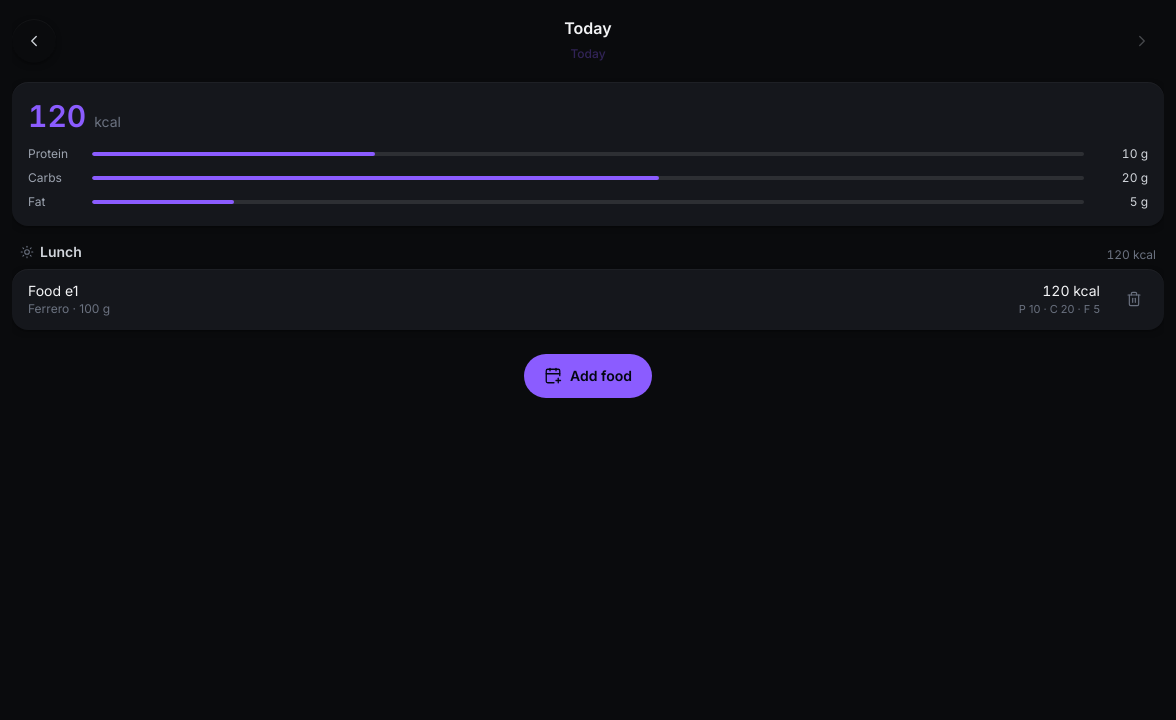
Test: DiaryDay › tapping a row opens the edit sheet prefilled; saving reconciles the row and totals
This screenshot has width=1176, height=720.
Click the button with test id "entry-edit-e1" at x=53, y=291, box [20,273,1108,326]
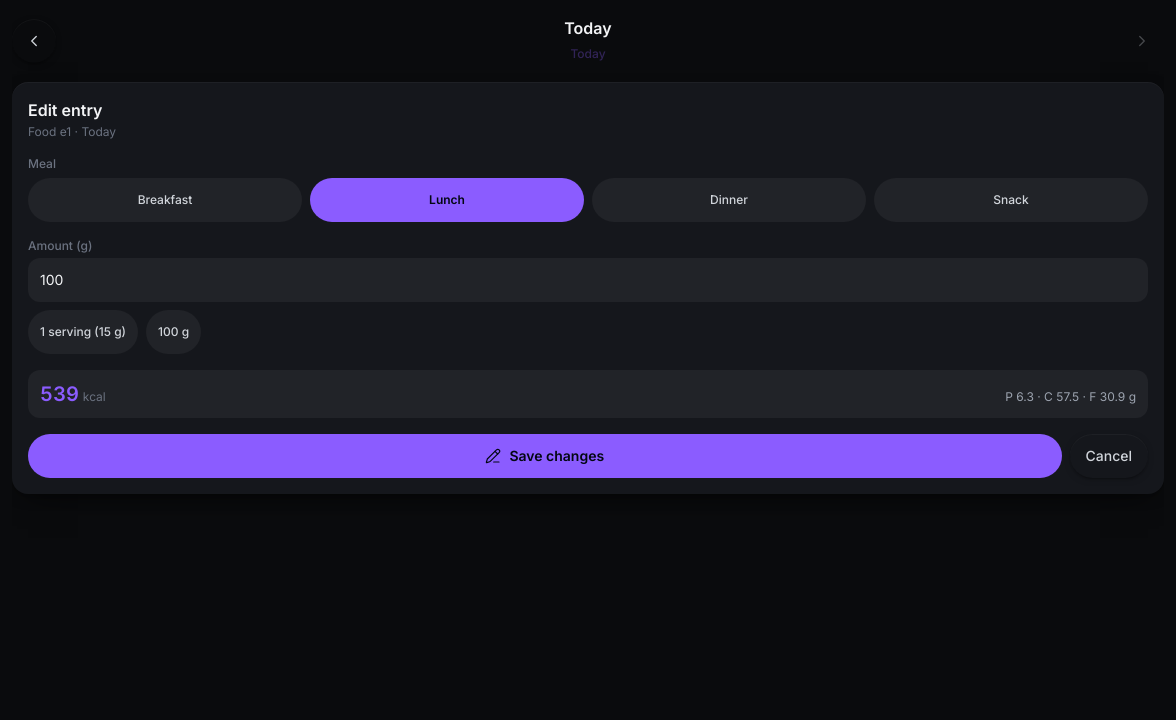
Result: the form with test id "add-to-diary-sheet" is shown at [12,82,1164,494]
Result: the field with test id "atd-amount" holds "100"
Type "200" into the field with test id "atd-amount" at x=588, y=280, box [28,258,1148,302]
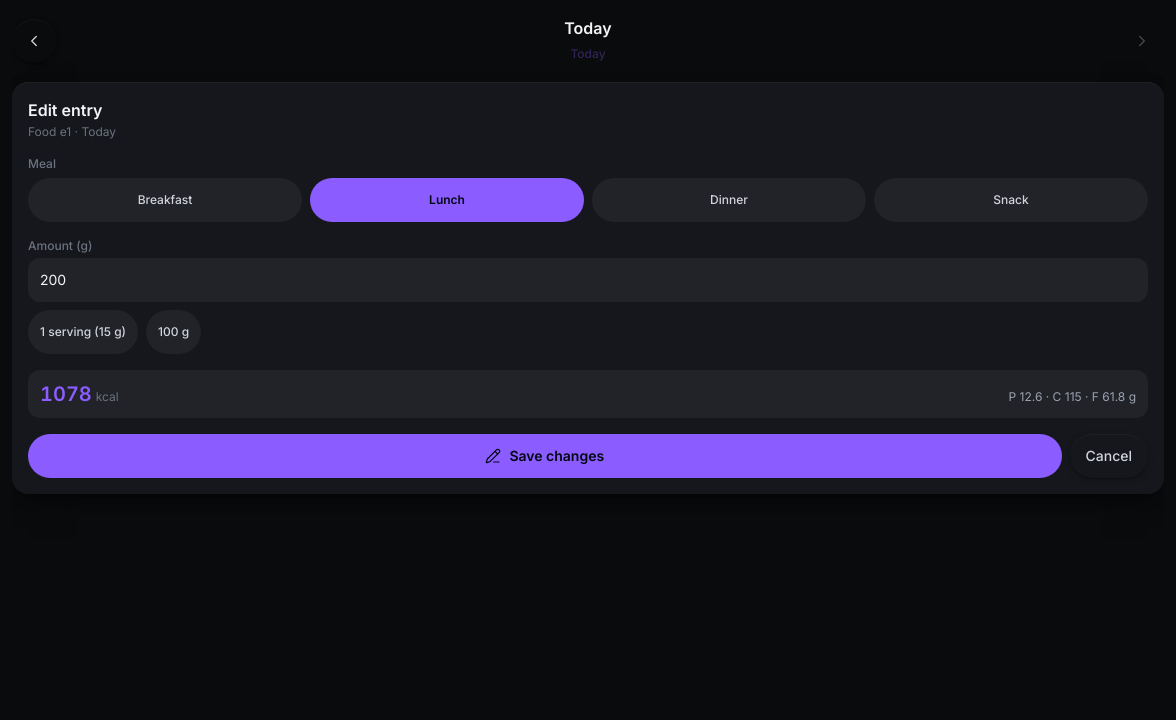
Click the button with test id "atd-submit" at x=545, y=456, box [28,434,1062,478]
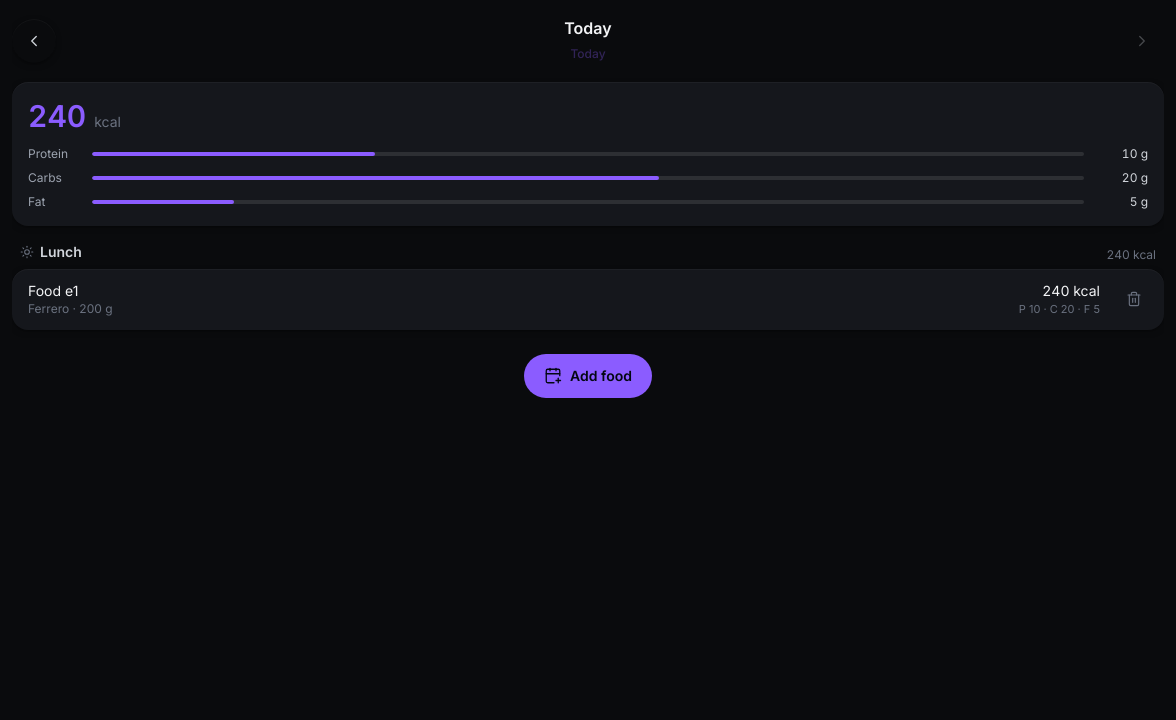
Result: the text with test id "totals-kcal" reads "240" at [28,98,86,134]
Result: the form with test id "add-to-diary-sheet" is gone
